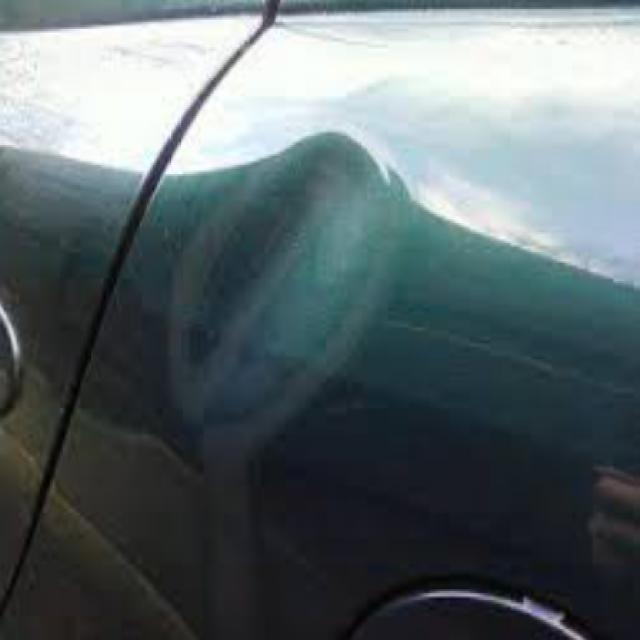dents: (167, 121, 390, 435)
